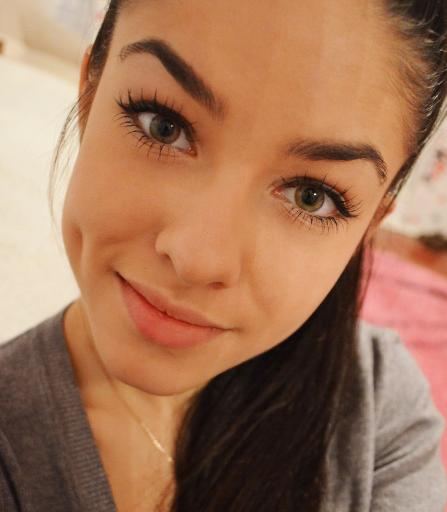left_eye: (269, 178, 351, 223)
left_lip_corner: (210, 319, 244, 340)
right_eye: (132, 107, 203, 155)
right_lip_corner: (108, 266, 129, 290)
